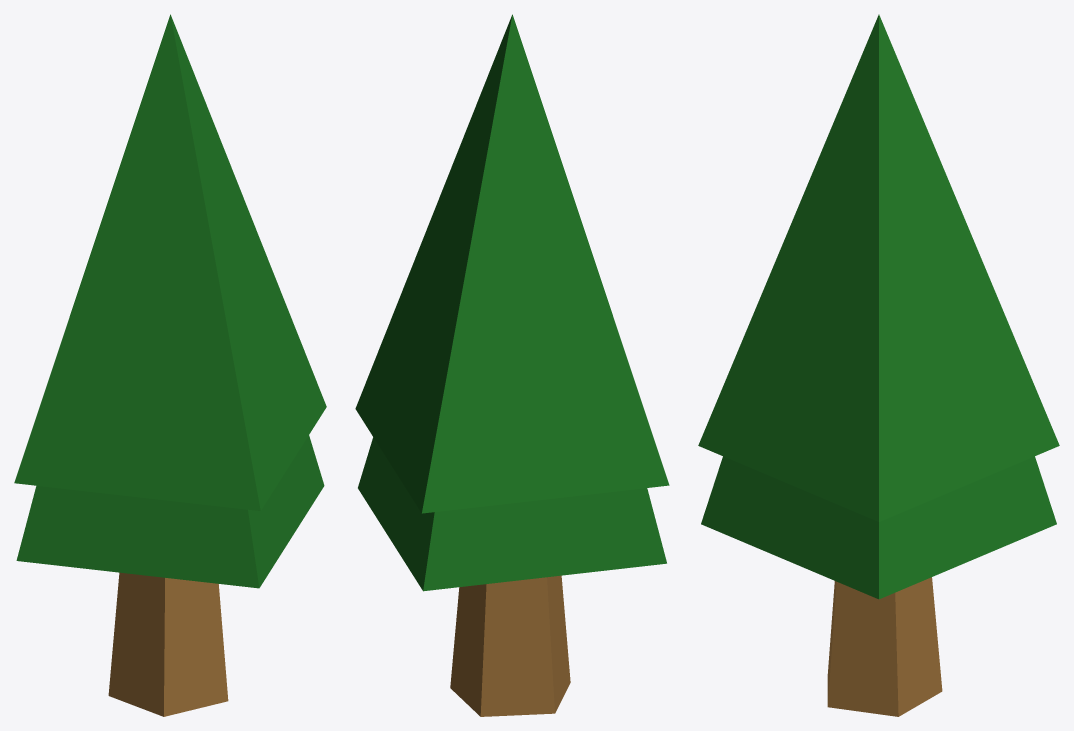
File: PineTree.fbx
3 renders of one model, left to right at view 1: azimuth 30°, elevation 25°; view 2: azimuth 150°, elevation 25°; view 3: azimuth 270°, elevation 25°, orthographic.
Visible parts, largest first — view 1: PineTree; view 2: PineTree; view 3: PineTree.
Boxes of the visible parts, x1,y1,x2,y2 form: PineTree: [14, 14, 326, 716]; PineTree: [355, 14, 669, 716]; PineTree: [698, 14, 1059, 716].
Bounding box in the file's own units: 5.7 × 11.78 × 5.7.
